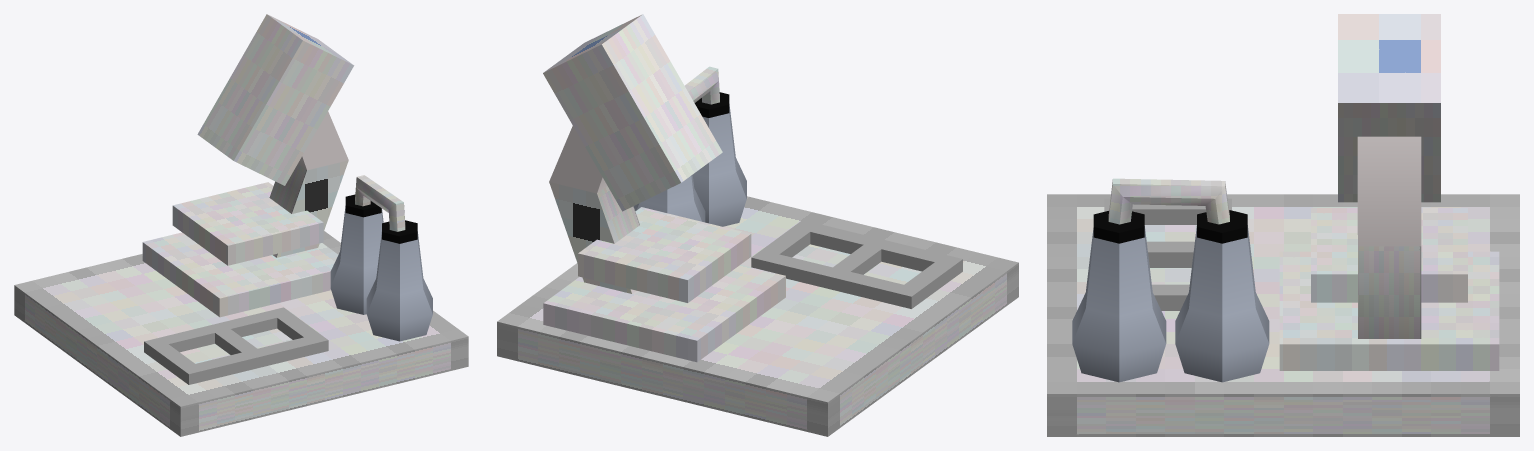
The model's file is mutationstation.obj.
3 views of the same model, side by side, from view 1: azimuth 30°, elevation 25°; view 2: azimuth 150°, elevation 25°; view 3: azimuth 270°, elevation 25° (orthographic). The views are drawn at different scales.
Parts seen in each view (by area): view 1: g2, g2_group, g4, g3_group, g1_group; view 2: g2_group, g2, g4, g3_group, g1_group; view 3: g2_group, g2, g3_group, g1_group, g4.
Boxes of the visible parts, x1,y1,x2,y2 form: g2: (14,231,468,436); g2_group: (142,14,354,317); g4: (144,175,405,384); g3_group: (366,220,432,341); g1_group: (330,194,383,314); g2_group: (543,14,785,362); g2: (497,196,1018,436); g4: (685,66,962,308); g3_group: (692,92,746,226); g1_group: (633,175,705,222); g2_group: (1279,14,1499,370); g2: (1047,194,1519,436); g3_group: (1072,211,1166,382); g1_group: (1175,210,1269,382); g4: (1104,178,1231,310).
Bounding box in the file's own units: 1 × 0.8847 × 1.
